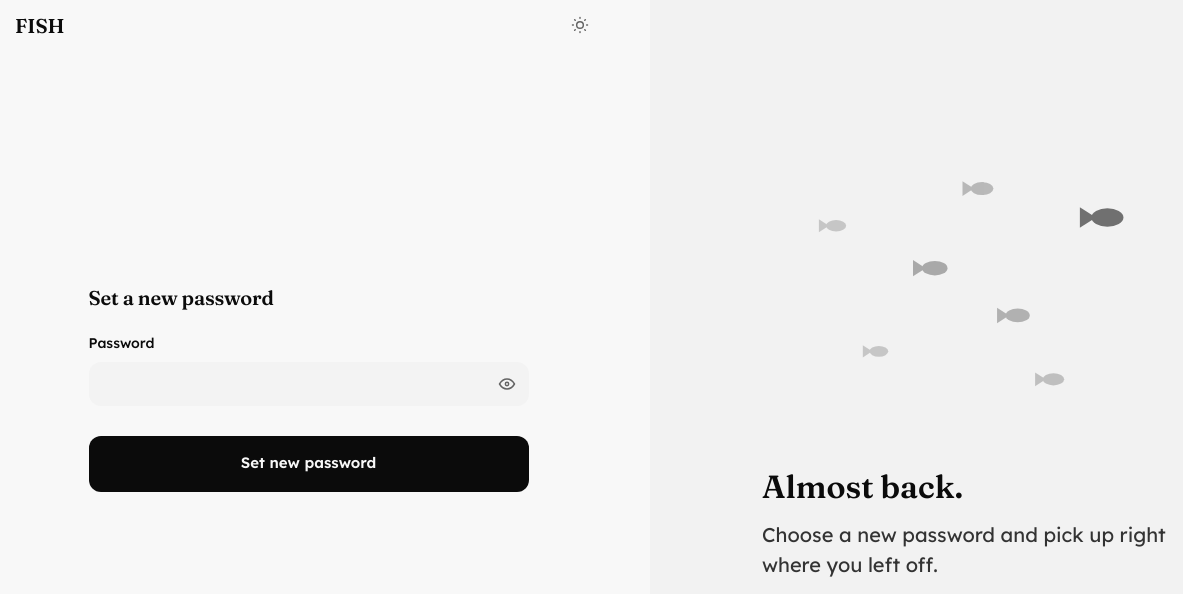
Test: ResetPasswordPage › a service-level transport failure shows connection copy
Type "new-password123" into the password field labelled "Password" at (308, 384), box [88, 362, 528, 406]
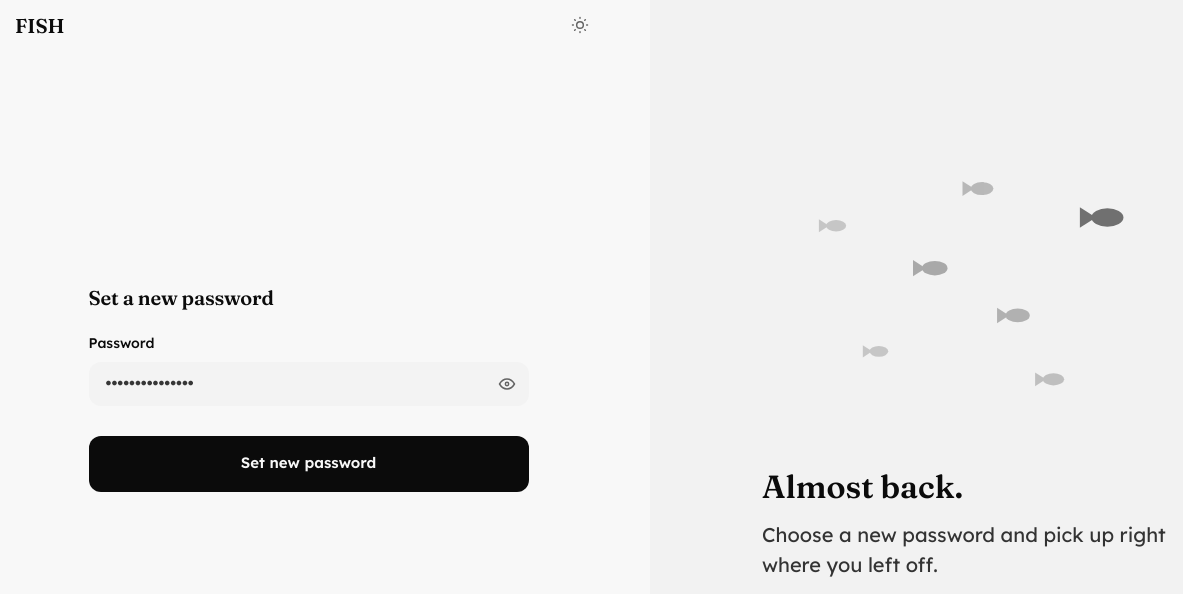
Click the button "Set new password" at (308, 464), box [88, 436, 528, 492]
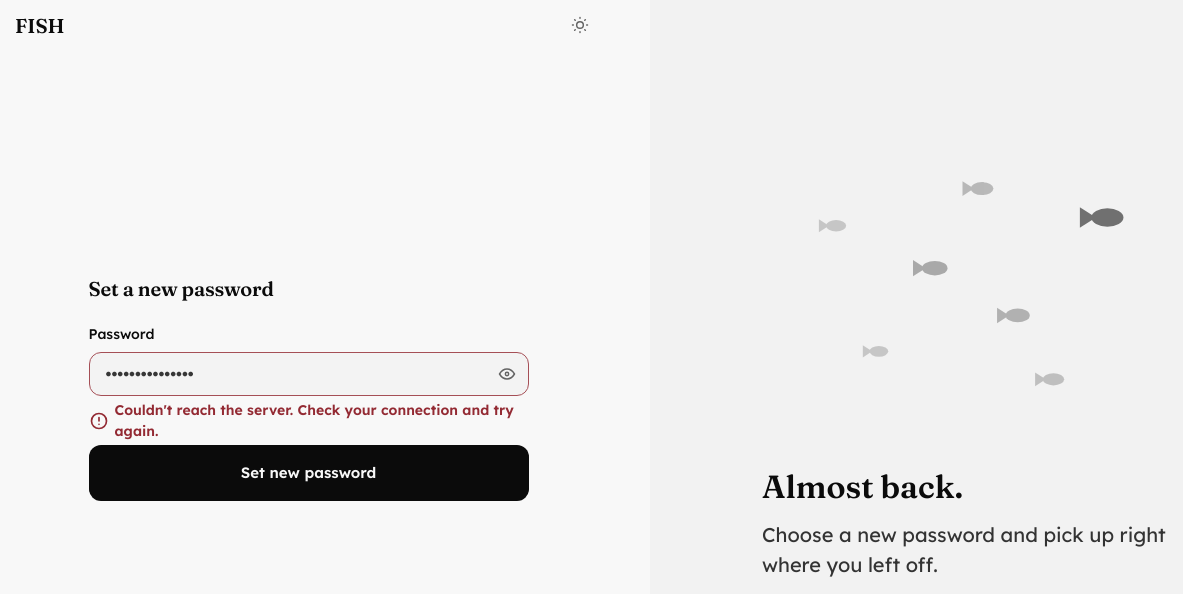
Expected: the text "Couldn't reach the server. Check your connection and try again." is shown, [88, 400, 528, 441]
